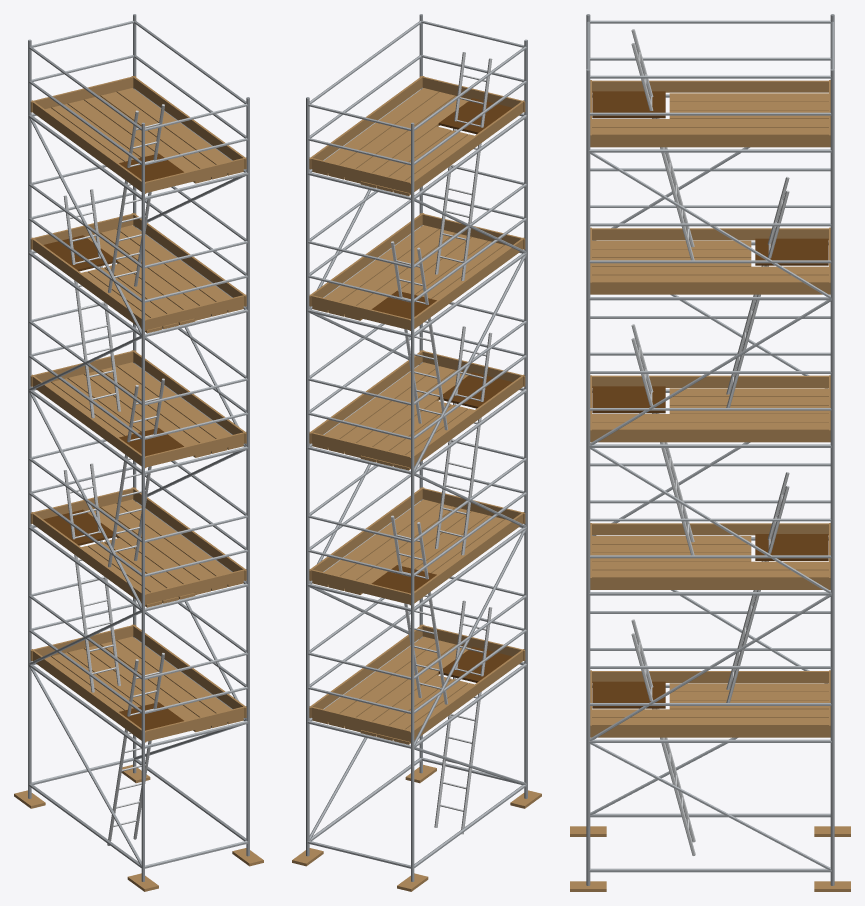
File: plant.access.stair_tower_5.glb
3 views of the same model, side by side, from view 1: azimuth 30°, elevation 25°; view 2: azimuth 150°, elevation 25°; view 3: azimuth 270°, elevation 25° (orthographic). The views are drawn at different scales.
Parts seen in each view (by area): view 1: decks__softwood, frame__steel_galvanised, ladders__aluminium, decks__ply_brown, frame__softwood; view 2: decks__softwood, frame__steel_galvanised, ladders__aluminium, decks__ply_brown, frame__softwood; view 3: decks__softwood, frame__steel_galvanised, decks__ply_brown, ladders__aluminium, frame__softwood.
Part boxes in pixels (box(x1,y1,x2,y2)): decks__softwood: box(30, 76, 246, 742); frame__steel_galvanised: box(28, 14, 249, 881); ladders__aluminium: box(63, 104, 164, 845); decks__ply_brown: box(43, 153, 183, 730); frame__softwood: box(14, 764, 263, 891); decks__softwood: box(309, 76, 525, 744); frame__steel_galvanised: box(306, 14, 527, 881); ladders__aluminium: box(391, 52, 492, 834); decks__ply_brown: box(371, 98, 512, 682); frame__softwood: box(292, 764, 541, 891); decks__softwood: box(590, 80, 830, 737); frame__steel_galvanised: box(586, 14, 834, 885); decks__ply_brown: box(592, 91, 828, 708); ladders__aluminium: box(631, 29, 789, 855); frame__softwood: box(570, 826, 850, 891).
Bounding box in the file's own units: 1.82 × 11.11 × 3.45.
